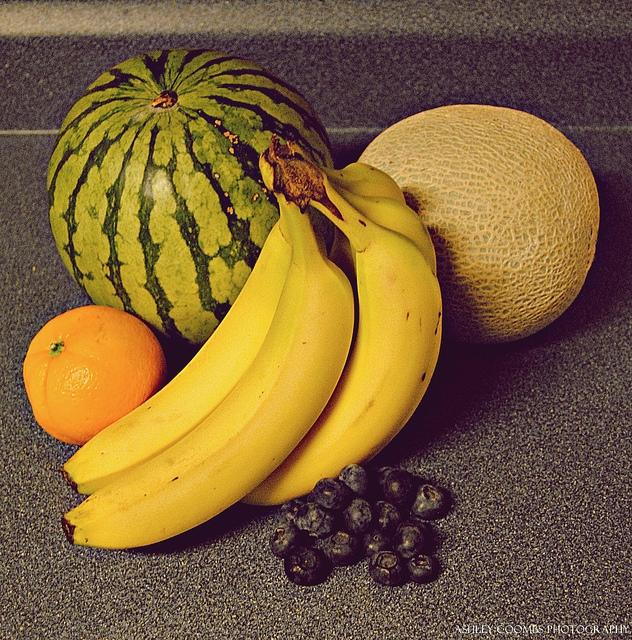banana: (61, 163, 354, 550), (236, 180, 442, 506), (59, 218, 292, 494), (328, 180, 438, 276), (324, 162, 404, 205)
blueberry: (283, 544, 330, 586), (294, 501, 338, 541), (268, 522, 312, 558), (411, 482, 453, 518), (323, 530, 363, 567), (391, 519, 427, 560), (368, 550, 407, 586), (382, 469, 416, 509), (313, 476, 351, 509), (356, 526, 394, 558), (341, 497, 374, 533), (371, 500, 401, 538), (338, 463, 370, 497), (406, 554, 440, 584), (369, 465, 396, 497), (279, 498, 306, 526)
orange: (22, 304, 168, 446)
watermelon: (48, 48, 337, 348)
